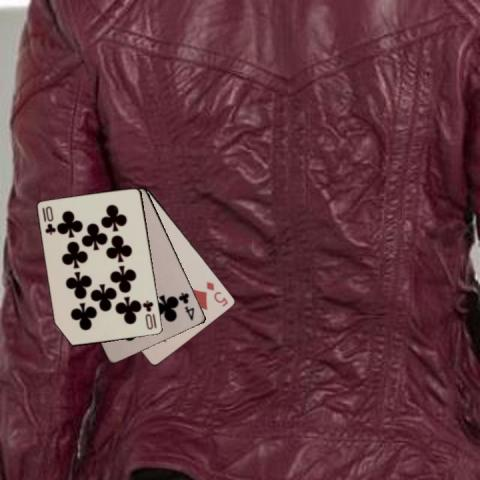10c: (40, 203, 58, 237), (140, 298, 158, 331)
4c: (176, 289, 196, 322)
5d: (204, 279, 230, 308)
